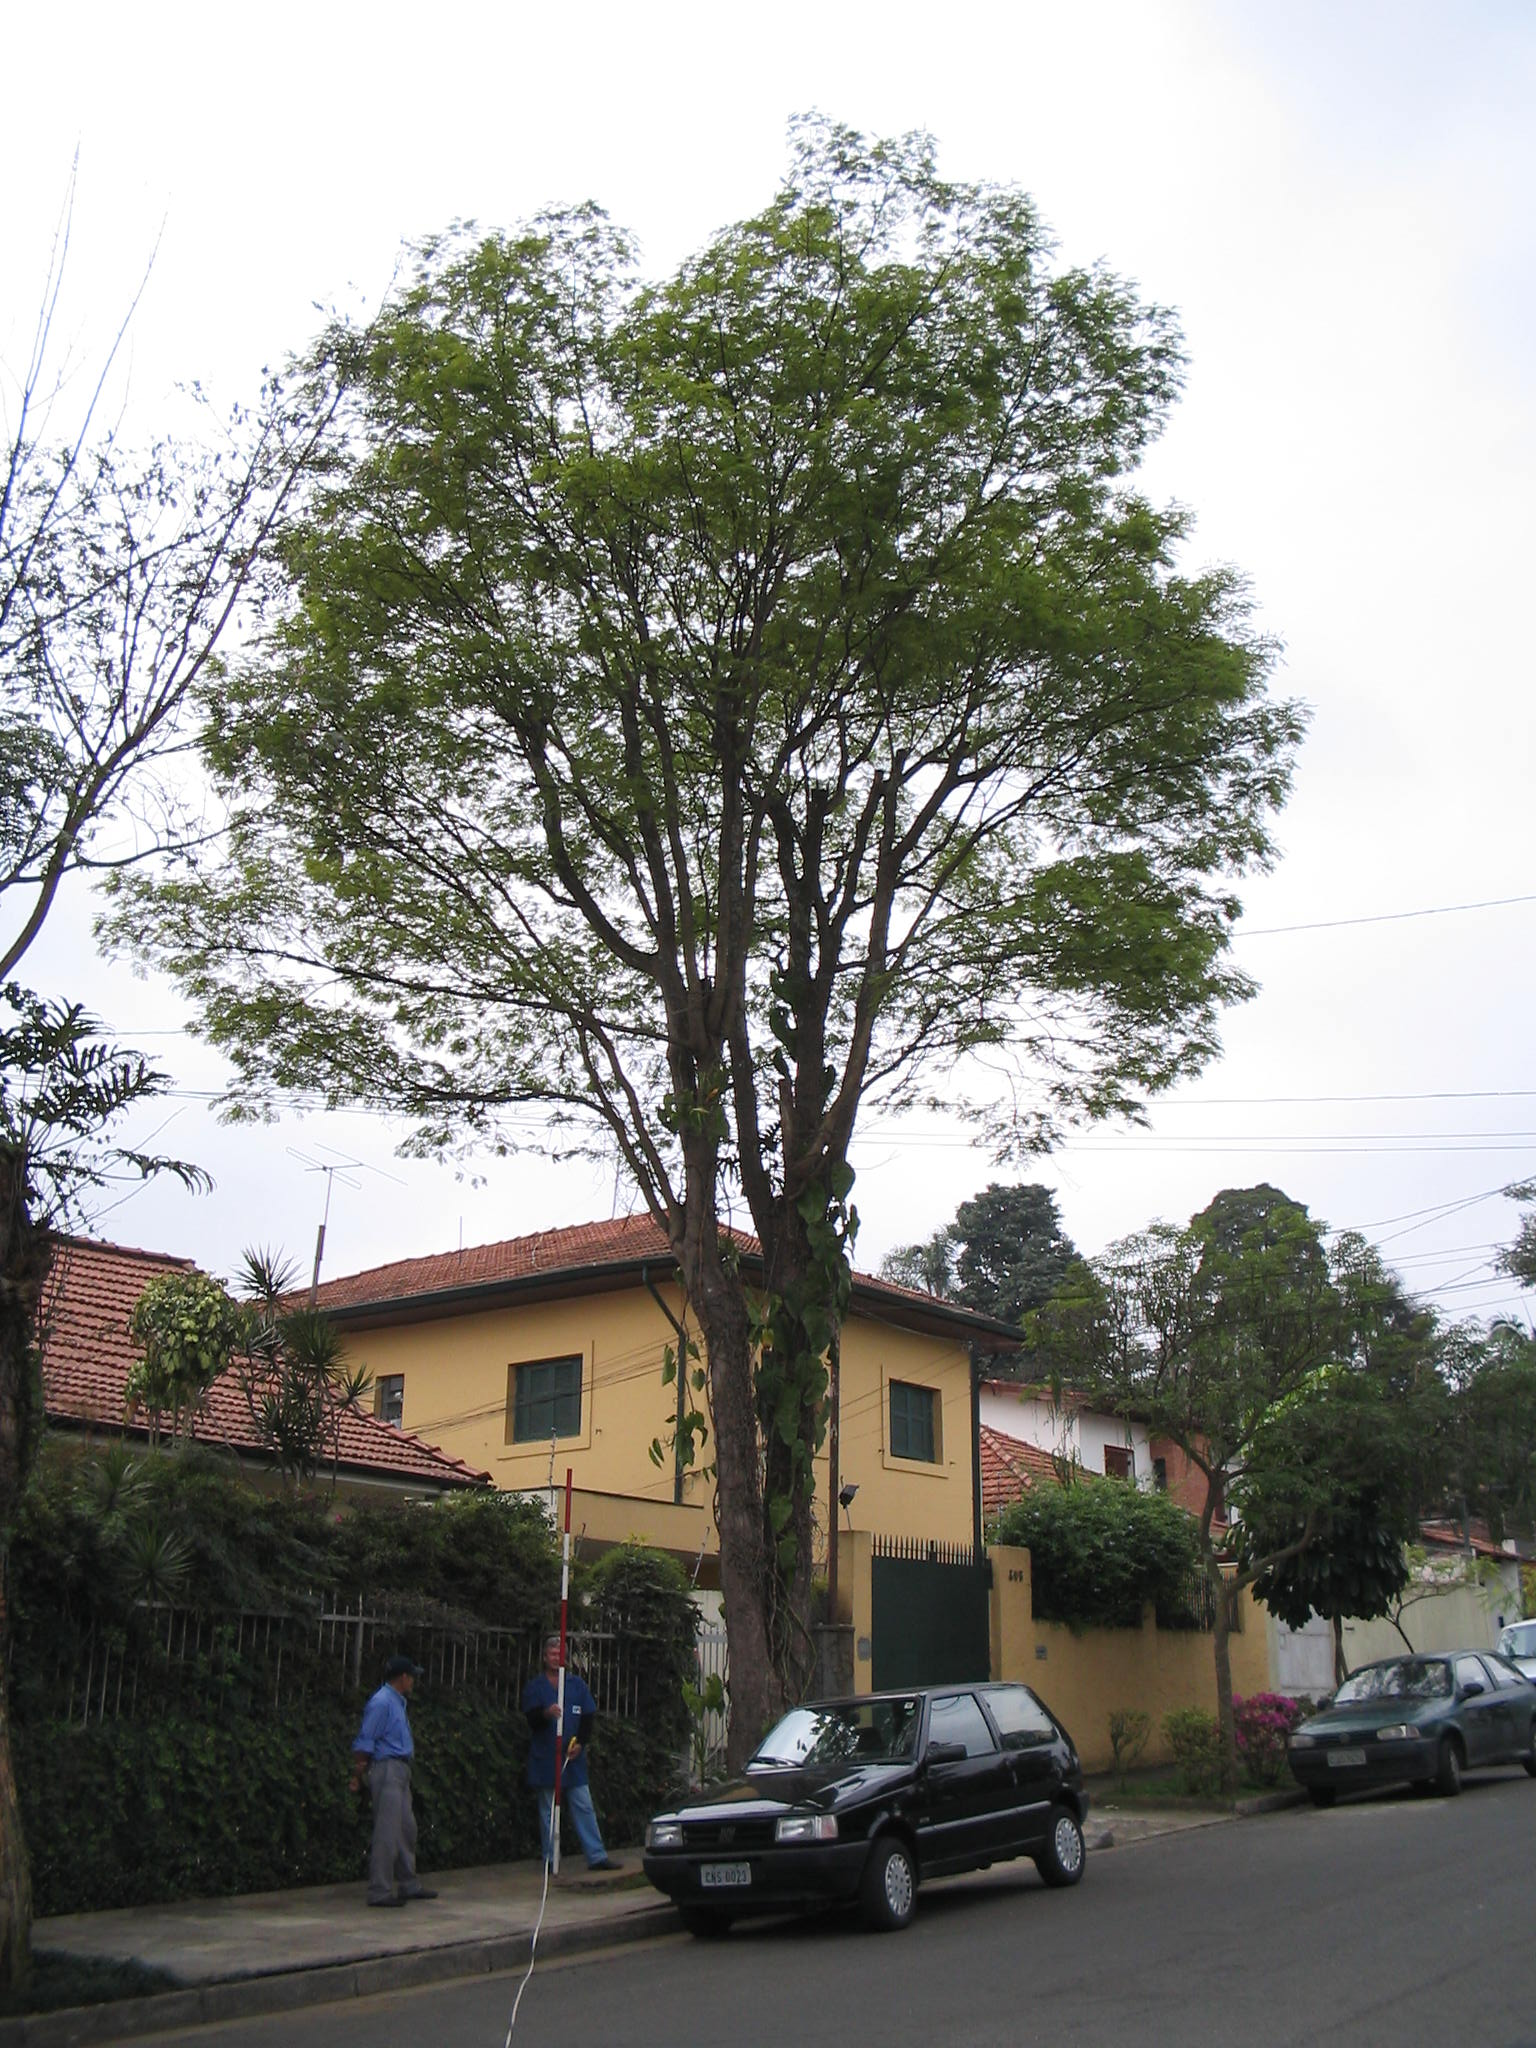crown: (123, 116, 1309, 1187)
stick: (532, 1466, 603, 1877)
tree: (115, 108, 1317, 1884)
